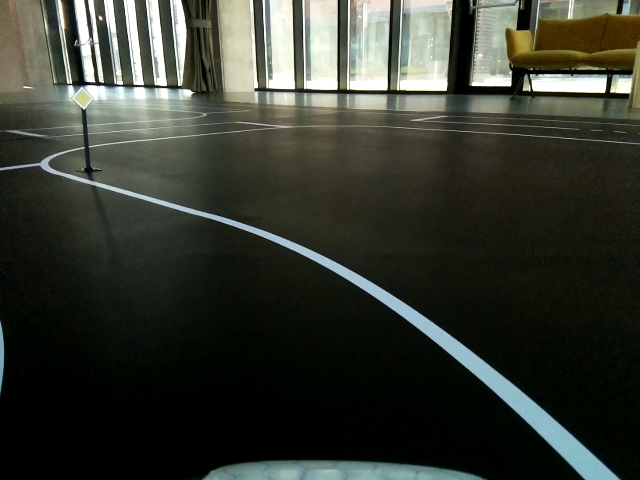priority: (71, 86, 96, 111)
